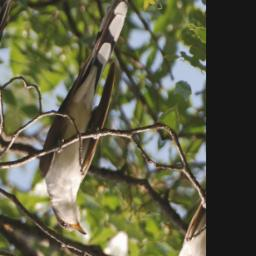Cuckoo: (18, 0, 174, 243)
